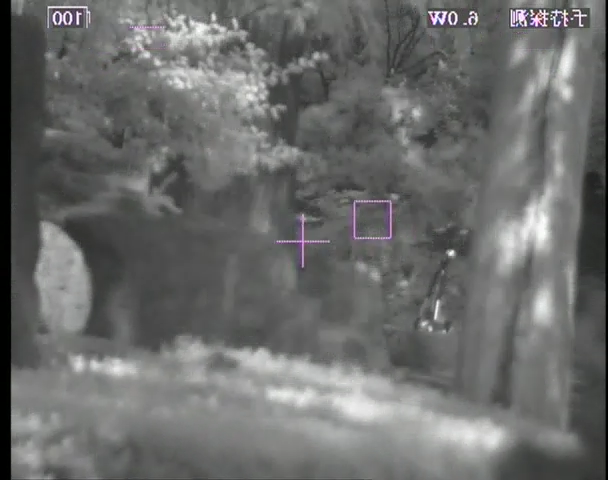my: (445, 249, 456, 258)
